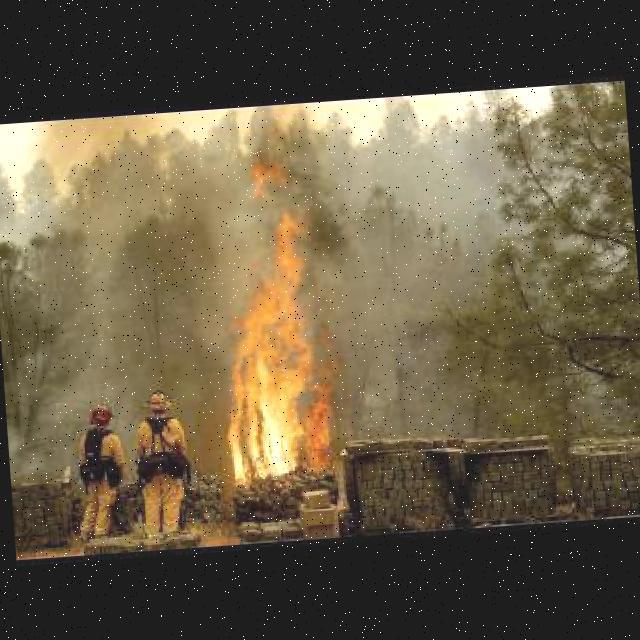Fire: (206, 193, 354, 489)
Smoke: (291, 134, 356, 269)
